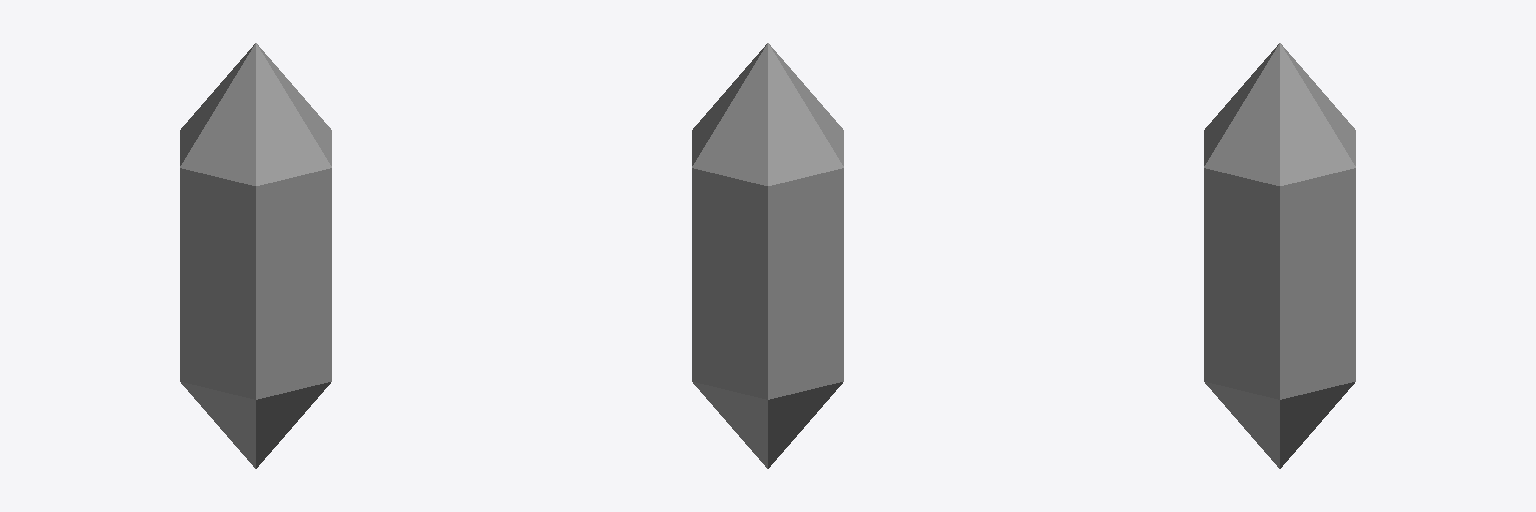
The model's file is crystal.obj.
3 renders of one model, left to right at view 1: azimuth 30°, elevation 25°; view 2: azimuth 150°, elevation 25°; view 3: azimuth 270°, elevation 25°, orthographic.
Visible parts, largest first — view 1: Sphere_Sphere.001; view 2: Sphere_Sphere.001; view 3: Sphere_Sphere.001.
Part boxes in pixels (bbox=[...]): Sphere_Sphere.001: bbox=[180, 43, 331, 468]; Sphere_Sphere.001: bbox=[692, 43, 843, 468]; Sphere_Sphere.001: bbox=[1204, 43, 1355, 468].
Bounding box in the file's own units: 0.3175 × 0.8479 × 0.275.